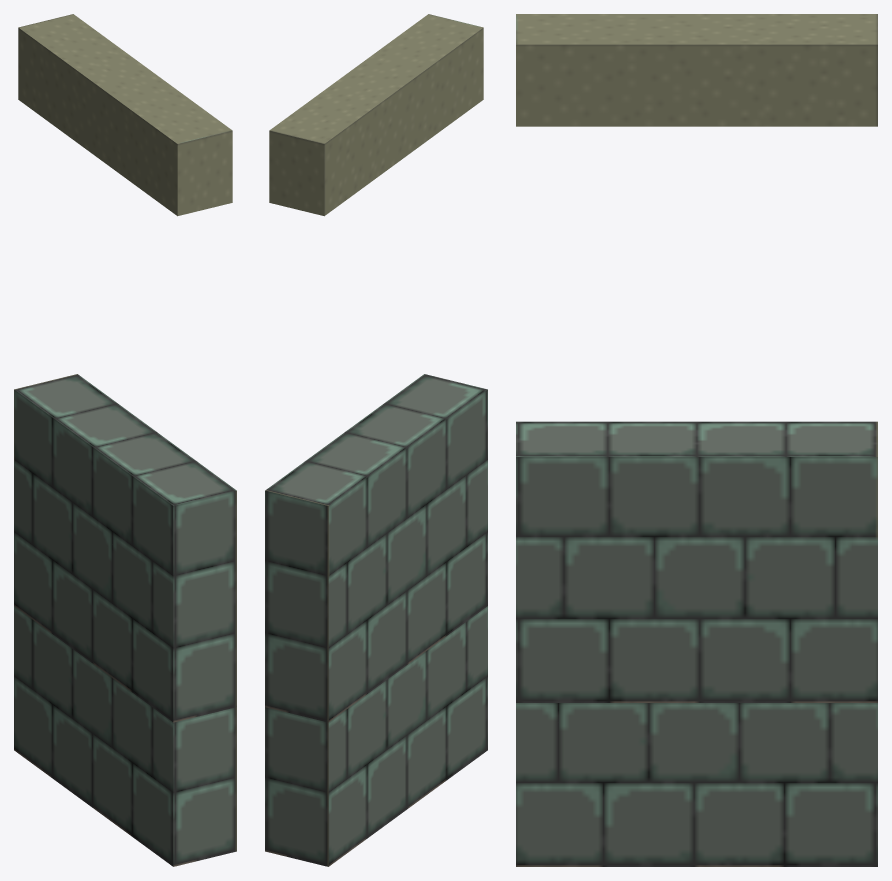
File: obj_wall_1x2m_v2_halfOpen.fbx
3 renders of one model, left to right at view 1: azimuth 30°, elevation 25°; view 2: azimuth 150°, elevation 25°; view 3: azimuth 270°, elevation 25°, orthographic. The views are drawn at different scales.
Visible parts, largest first — view 1: obj_wall_1x2m_v2_halfOpen; view 2: obj_wall_1x2m_v2_halfOpen; view 3: obj_wall_1x2m_v2_halfOpen.
Boxes of the visible parts, x1,y1,x2,y2 form: obj_wall_1x2m_v2_halfOpen: (14,14,236,866); obj_wall_1x2m_v2_halfOpen: (265,14,487,866); obj_wall_1x2m_v2_halfOpen: (516,14,877,866).
Size of the model in its own units: 23 by 250 by 100.
